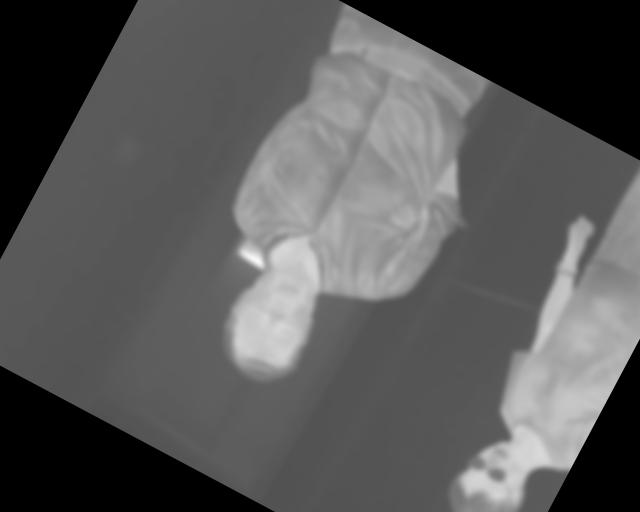face: (203, 246, 339, 397), (433, 424, 546, 512)
